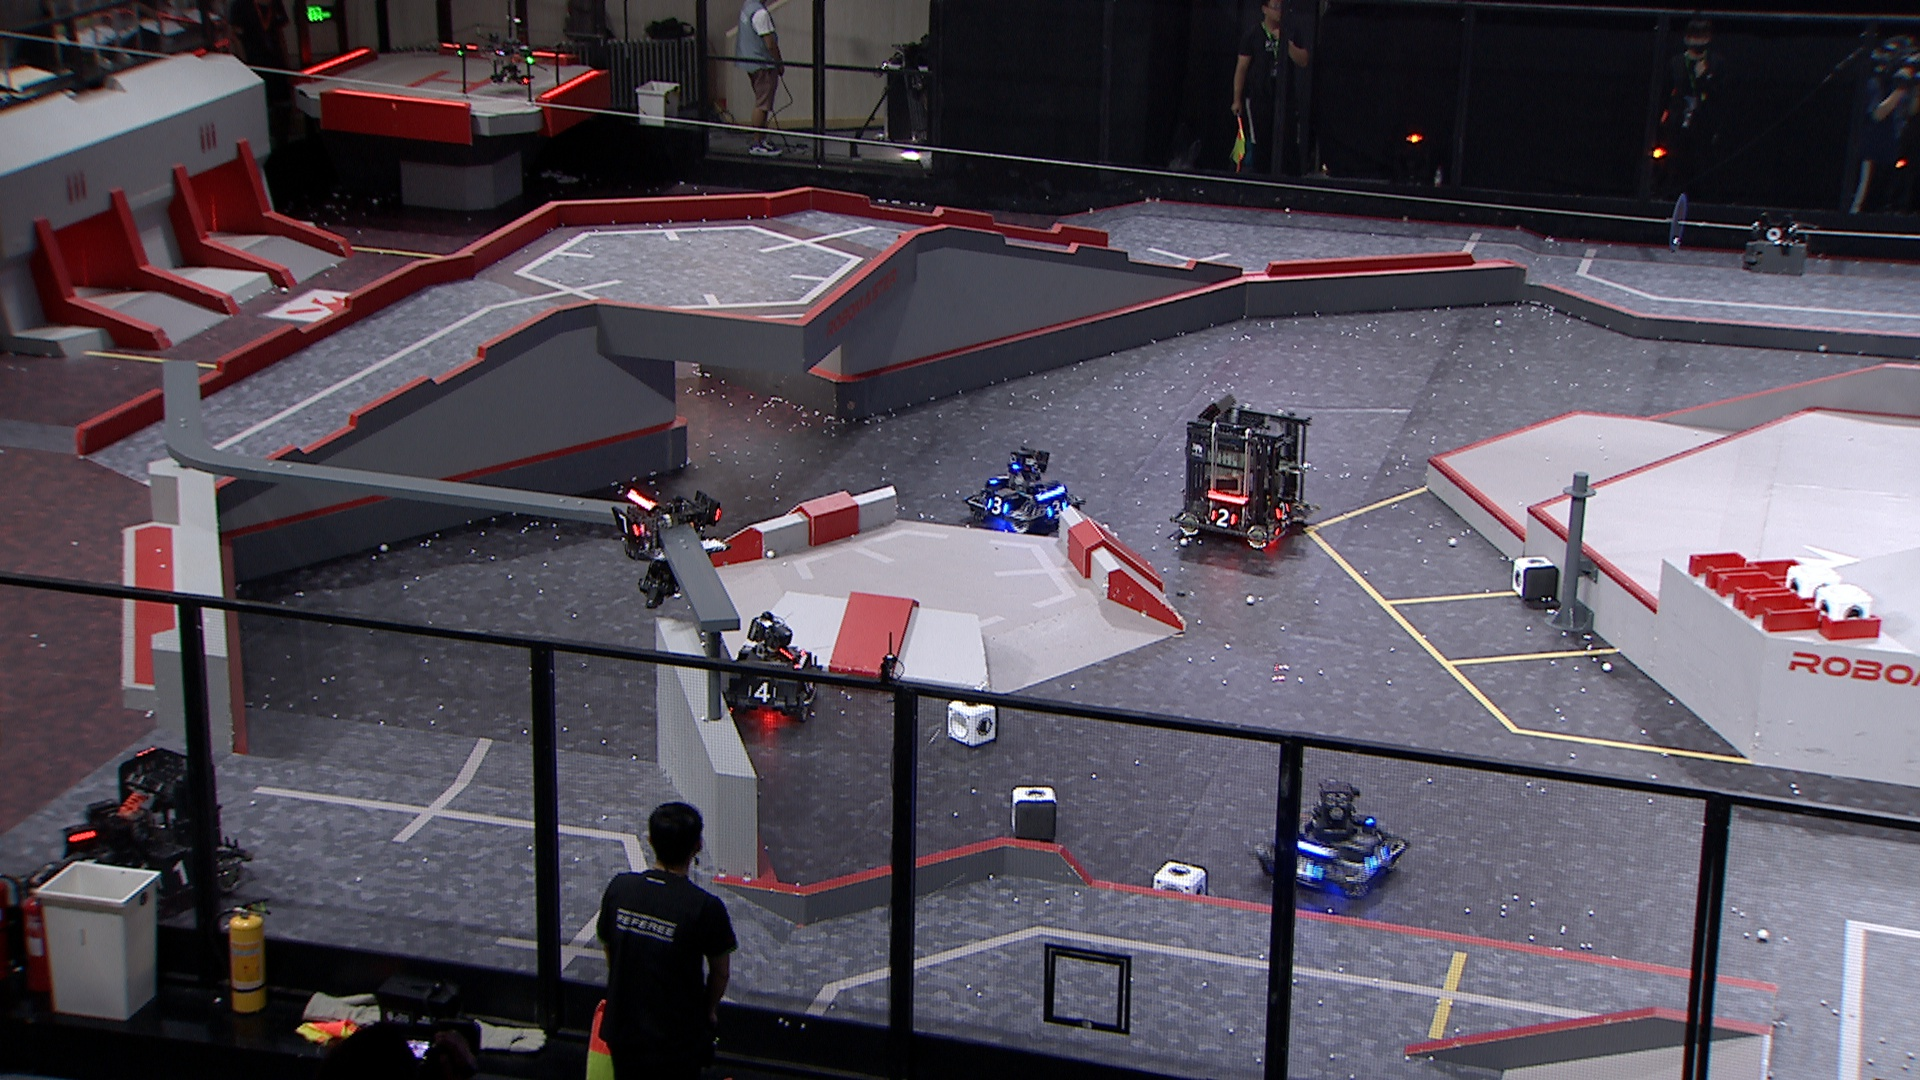armor: (611, 504, 642, 541), (156, 861, 193, 891), (1364, 844, 1391, 878), (746, 680, 782, 705), (1298, 858, 1327, 887), (1211, 508, 1240, 531), (984, 495, 1011, 517), (1044, 498, 1069, 522), (1275, 500, 1292, 524)
car: (21, 746, 255, 934), (1168, 396, 1321, 551), (1257, 778, 1411, 898), (717, 609, 822, 717), (964, 447, 1087, 534)
watcher: (609, 484, 723, 609)
